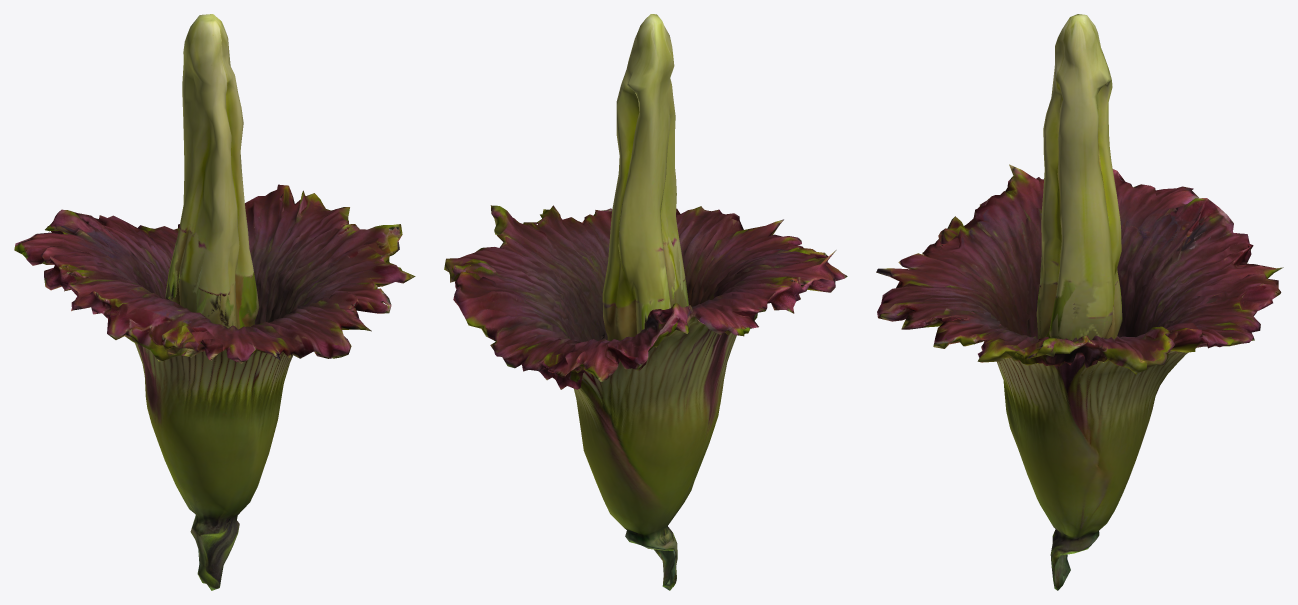
File: Amorphophallus_Bloomi_0603061447_texture.glb
3 views of the same model, side by side, from view 1: azimuth 30°, elevation 25°; view 2: azimuth 150°, elevation 25°; view 3: azimuth 270°, elevation 25° (orthographic). The views are drawn at different scales.
Size of the model in its own units: 1.22 by 2 by 1.28.
Materials: 1 (1 with a texture image).
